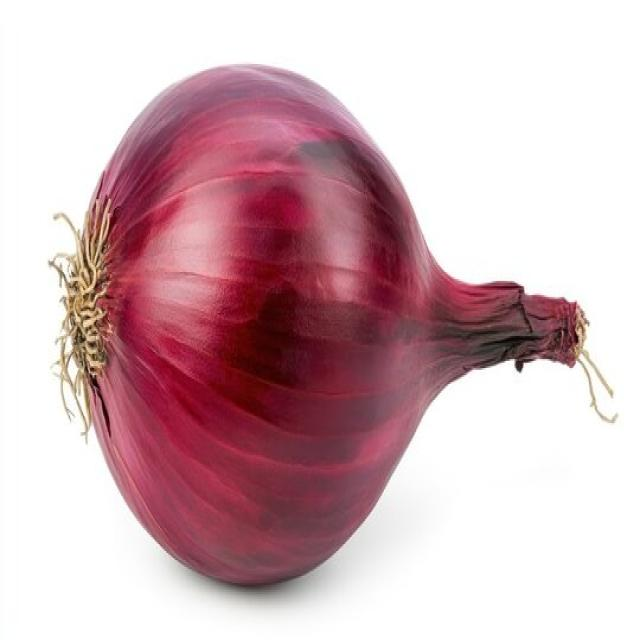Onion: (48, 61, 618, 588)
